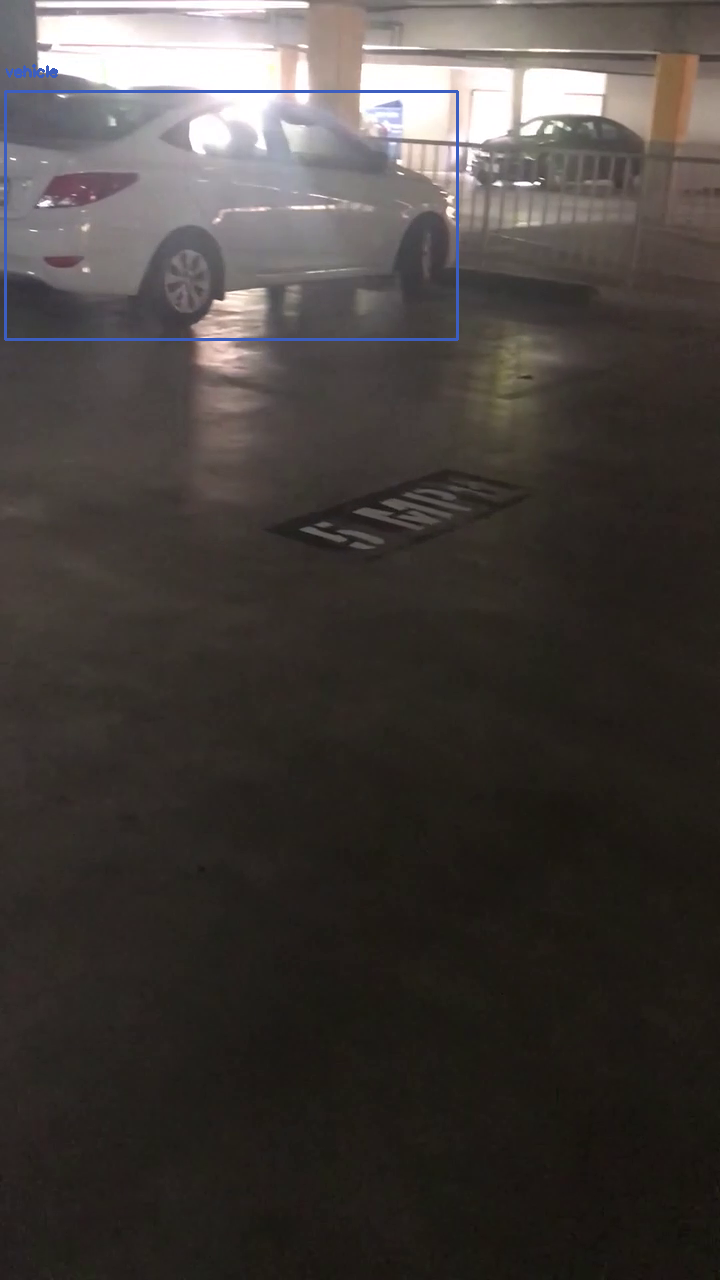vehicle: (5, 91, 457, 339)
